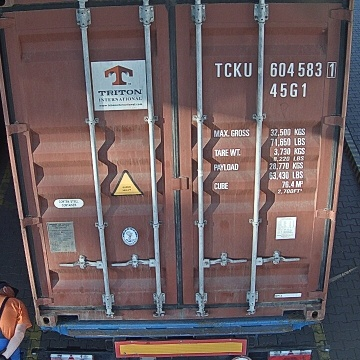serial_id: (215, 62, 337, 76)
